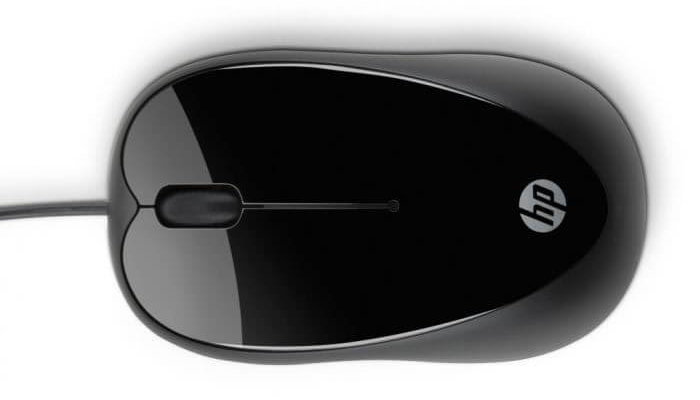hp-mouse-X1000: (1, 47, 659, 375)
